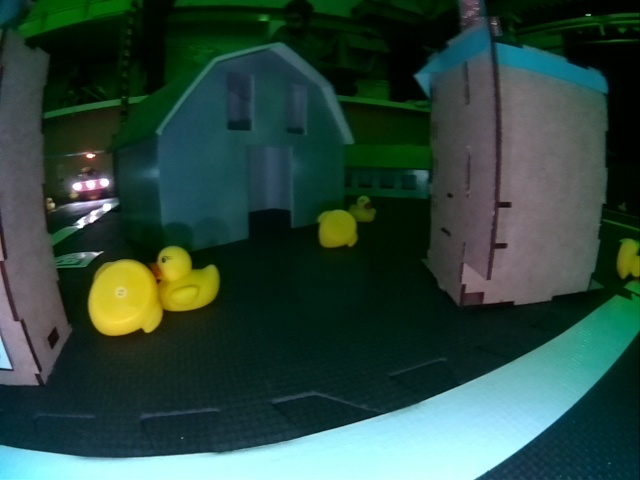Duckie: (91, 262, 160, 333), (152, 248, 221, 310), (318, 209, 355, 248), (617, 238, 639, 278), (354, 196, 377, 222)
Duckiebot: (73, 167, 110, 200)
